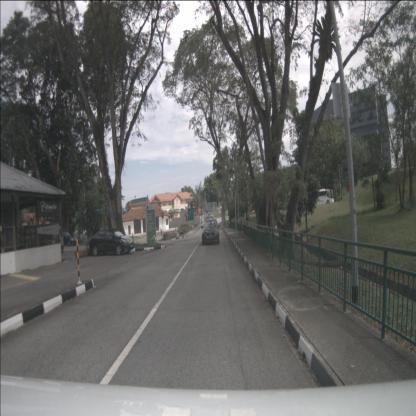vehicle-bus-rigid: (301, 188, 335, 206)
vehicle-car: (90, 228, 134, 256), (202, 219, 219, 245), (58, 232, 76, 246), (206, 212, 214, 220)
